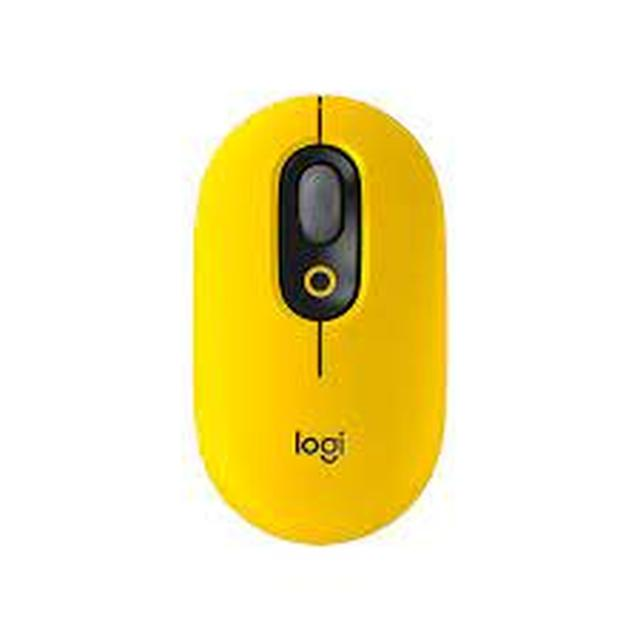mouse: (128, 86, 476, 572)
